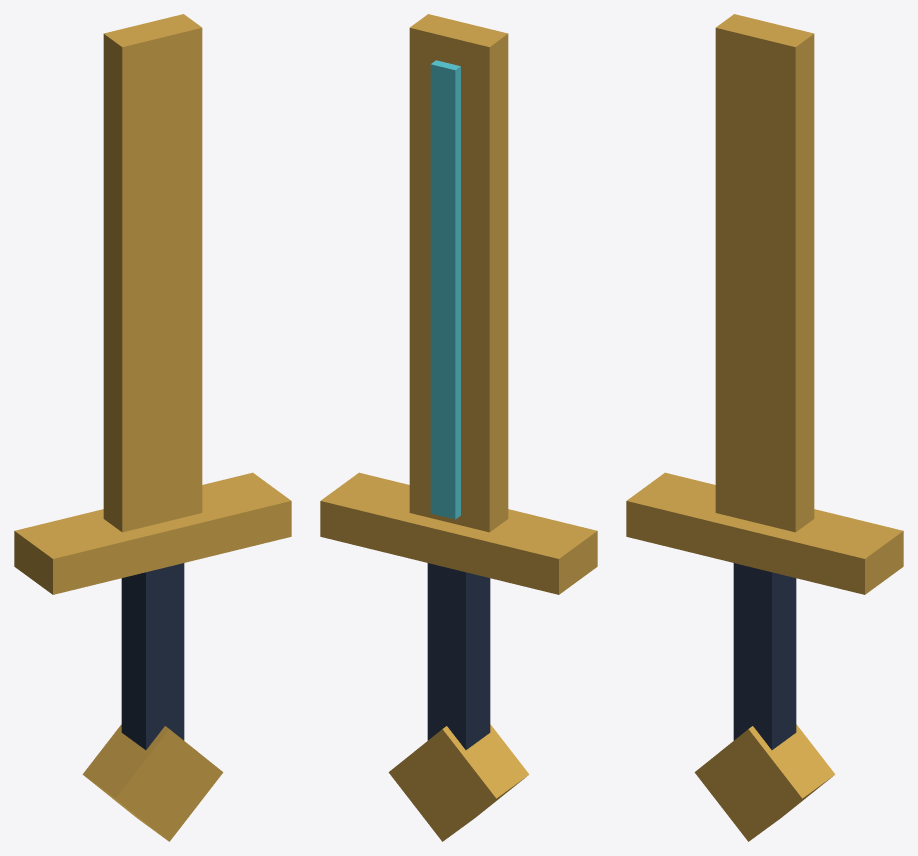
The model's file is compass_blade.glb.
3 renders of one model, left to right at view 1: azimuth 30°, elevation 25°; view 2: azimuth 150°, elevation 25°; view 3: azimuth 330°, elevation 25°, orthographic.
Visible parts, largest first — view 1: compass_blade; view 2: compass_blade; view 3: compass_blade.
Part boxes in pixels (bbox=[...]): compass_blade: bbox=[14, 14, 291, 841]; compass_blade: bbox=[320, 14, 597, 841]; compass_blade: bbox=[626, 14, 903, 841].
Bounding box in the file's own units: 1.25 × 4 × 0.35.
